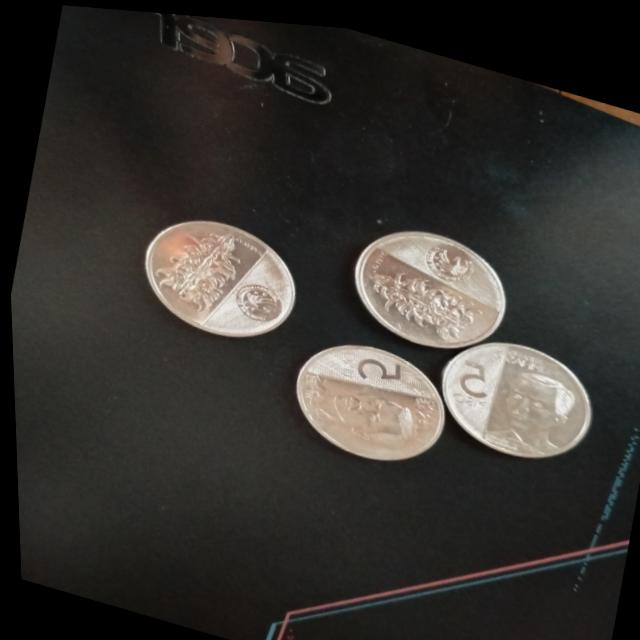5_New_Back: (130, 196, 254, 326), (352, 246, 495, 341)
5_New_Front: (433, 333, 511, 414), (343, 333, 413, 394)
